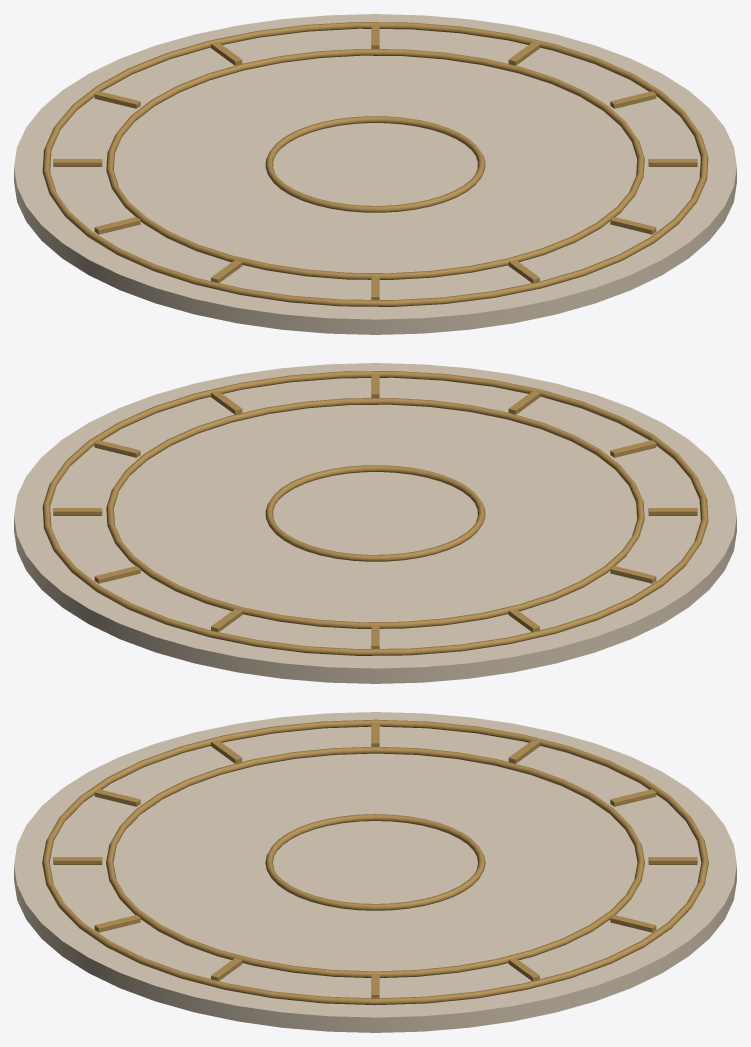
File: floor_medallion.glb
3 renders of one model, top to bottom at view 1: azimuth 30°, elevation 25°; view 2: azimuth 150°, elevation 25°; view 3: azimuth 270°, elevation 25°, orthographic.
Parts seen in each view (by area): view 1: floor_medallion; view 2: floor_medallion; view 3: floor_medallion.
Part boxes in pixels (bbox=[...]): floor_medallion: bbox=[14, 14, 736, 334]; floor_medallion: bbox=[14, 363, 736, 683]; floor_medallion: bbox=[14, 712, 736, 1032].
Bounding box in the file's own units: 3.4 × 0.1125 × 3.4.
